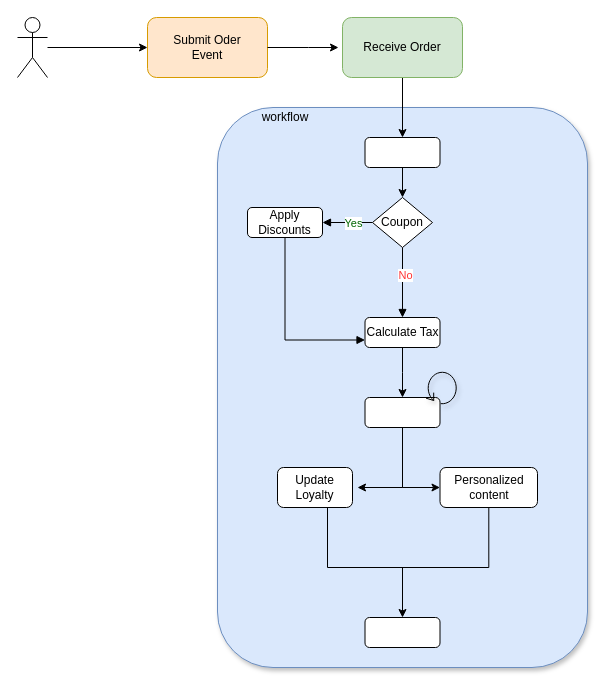
The diagram is 611 pixels wide and 692 high, and some of its shapes have lost their labels. Here are the shapes that lost their labels. From the top down, the centre of each, then its label:
At pixel 32 47: "Actor".
At pixel 402 152: "Check Availability".
At pixel 402 412: "Process payment".
At pixel 402 632: "send mail".
